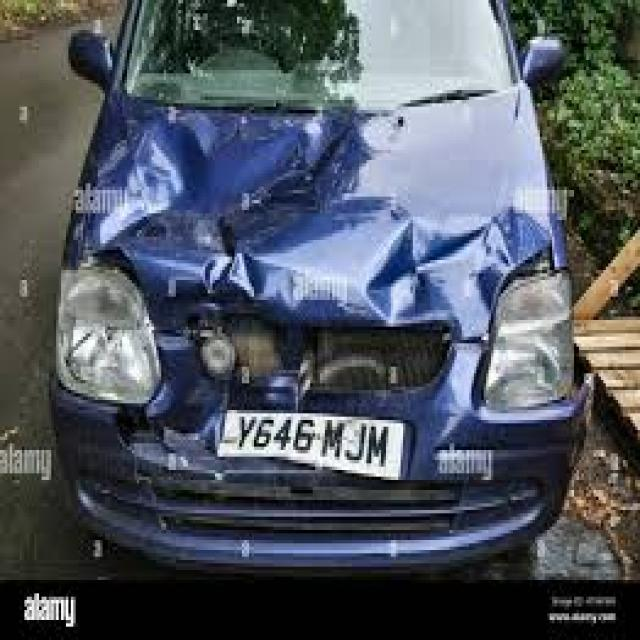damaged-hood: (80, 95, 554, 321)
